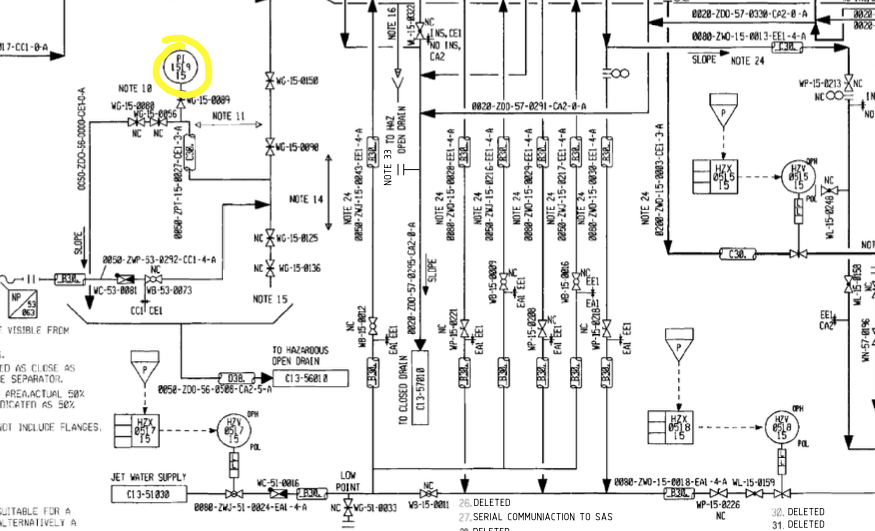Instrument: (212, 410, 253, 449), (159, 49, 202, 85), (764, 408, 800, 445), (781, 157, 818, 193)
Instrument-square: (108, 410, 163, 453), (690, 157, 741, 198), (646, 407, 697, 447)
